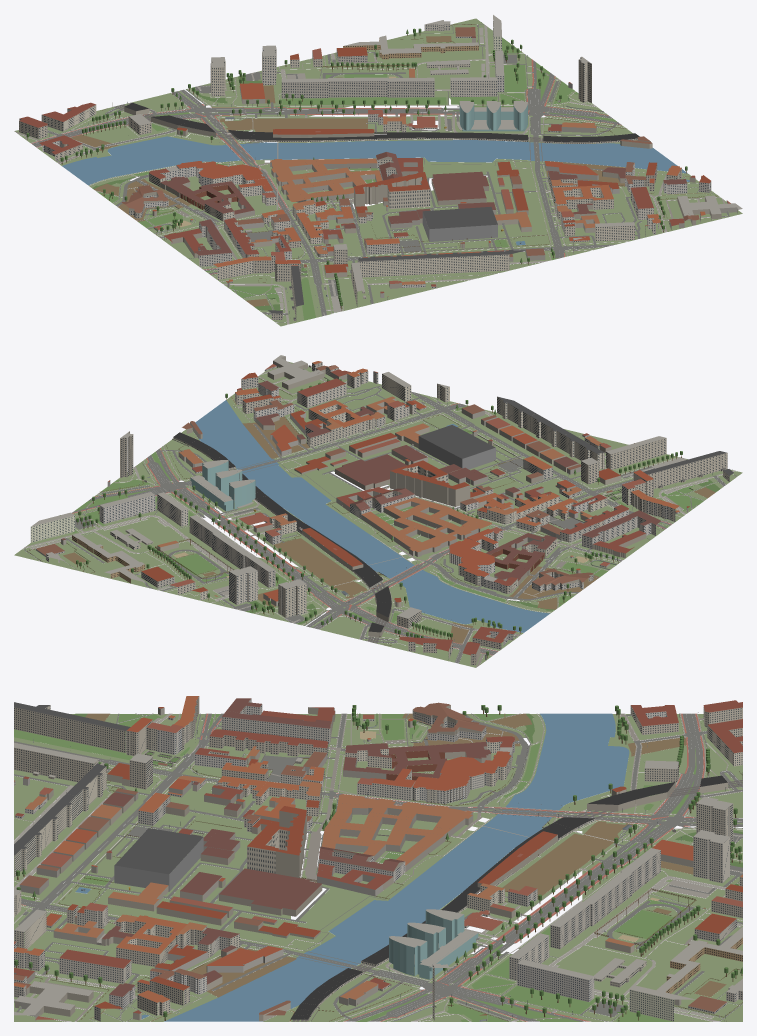
3 views of the same model, one above another, from view 1: azimuth 30°, elevation 25°; view 2: azimuth 150°, elevation 25°; view 3: azimuth 270°, elevation 25° (orthographic). The views are drawn at different scales.
Bounding box in the file's own units: 750 × 61.12 × 750.
3 materials, 1 textured.
